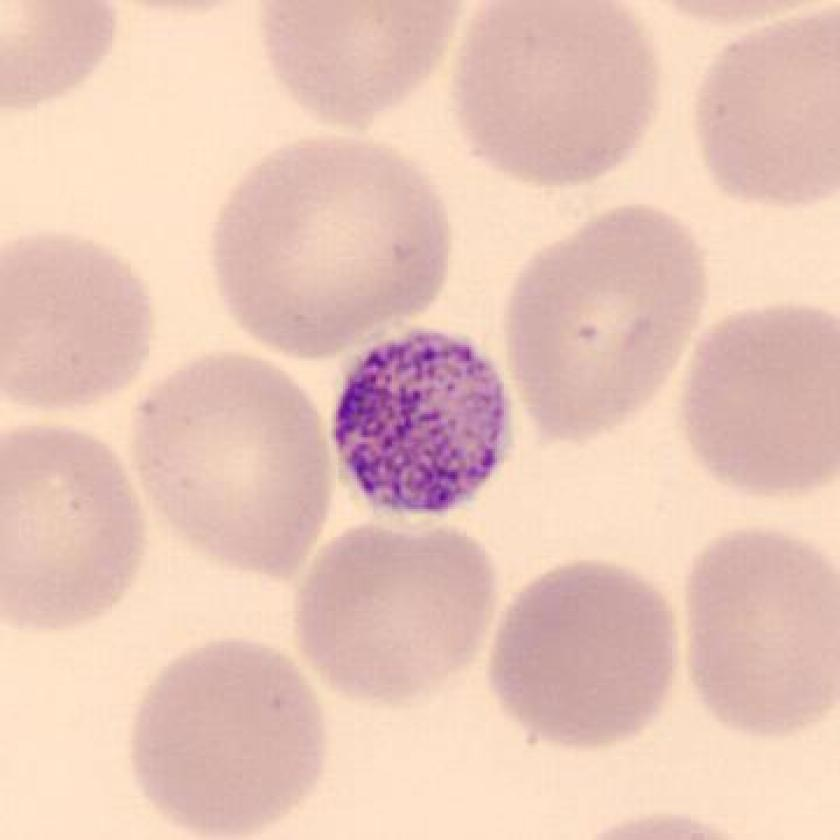platelets: (328, 320, 521, 522)
